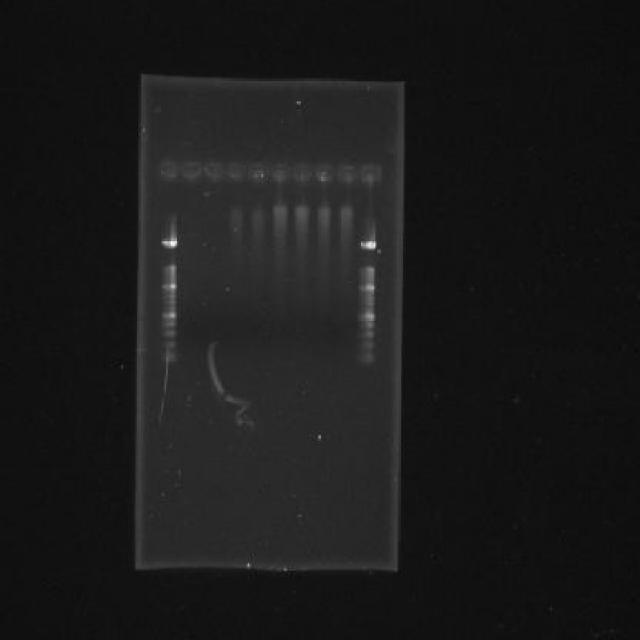L: (153, 154, 387, 196)
M: (154, 208, 182, 369), (354, 215, 382, 371)
P: (158, 232, 178, 251), (357, 235, 377, 252), (158, 278, 178, 294), (356, 351, 376, 367), (357, 280, 377, 294), (355, 341, 377, 352), (357, 309, 375, 322), (159, 353, 178, 364), (160, 309, 177, 320), (356, 332, 376, 341), (356, 322, 376, 331), (158, 341, 177, 350), (159, 330, 176, 339), (158, 264, 176, 272), (357, 300, 375, 308), (159, 299, 176, 307), (160, 321, 178, 328)
Pc: (358, 160, 382, 188), (335, 159, 357, 187), (156, 158, 179, 184), (180, 158, 202, 184), (202, 158, 224, 184), (246, 158, 268, 184), (226, 158, 246, 184), (270, 158, 290, 184), (314, 160, 334, 186), (292, 159, 312, 184)
